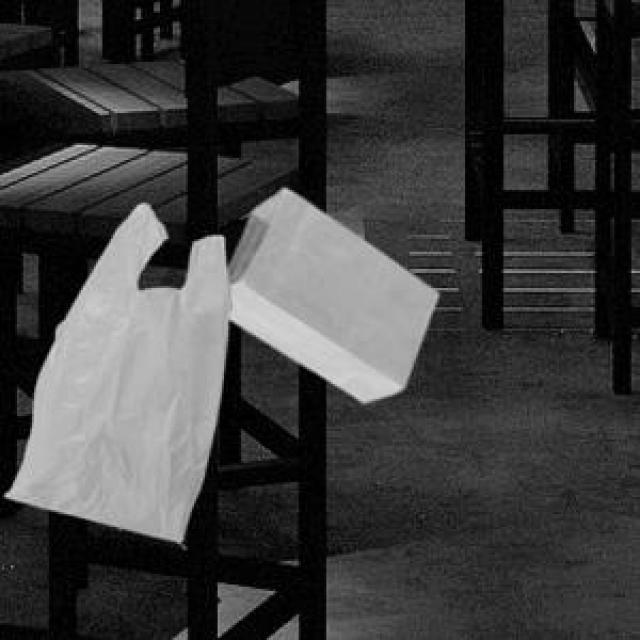paper: (222, 186, 433, 399)
